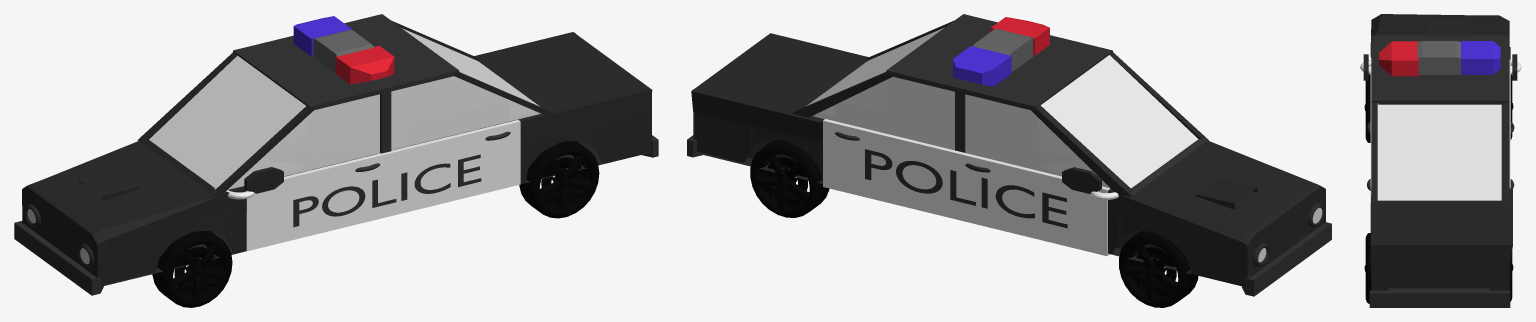
File: Police car.fbx
3 renders of one model, left to right at view 1: azimuth 30°, elevation 25°; view 2: azimuth 150°, elevation 25°; view 3: azimuth 270°, elevation 25°, orthographic. The views are drawn at different scales.
Visible parts, largest first — view 1: Cube, Cube.027, Cube.019, Cube.021, Cube.006, FR, FR.001, Cube.038, Cube.041, Cube.007, Cube.010, Text (+11 smaller); view 2: Cube, Cube.028, Cube.019, Cube.021, Cube.014, FR.002, FR.003, Cube.031, Cube.017, Cube.015, Cube.029, Text.001 (+11 smaller); view 3: Cube, Cube.052, Cube.021, Cube.013, Cube.043, Cube.048, Cube.047, Cube.030, FR.001, FR, Cube.027, Cube.028 (+4 smaller).
Boxes of the visible parts, bbox=[...] form: Cube: bbox=[22, 20, 652, 286]; Cube.027: bbox=[246, 120, 520, 251]; Cube.019: bbox=[149, 55, 305, 189]; Cube.021: bbox=[233, 14, 459, 110]; Cube.006: bbox=[306, 76, 456, 169]; FR: bbox=[152, 231, 232, 307]; FR.001: bbox=[519, 141, 599, 218]; Cube.038: bbox=[97, 209, 246, 285]; Cube.041: bbox=[520, 109, 651, 183]; Cube.007: bbox=[263, 117, 402, 170]; Cube.010: bbox=[415, 77, 509, 144]; Text: bbox=[293, 154, 481, 227]; Cube: bbox=[691, 20, 1325, 286]; Cube.028: bbox=[823, 119, 1109, 256]; Cube.019: bbox=[1040, 55, 1198, 188]; Cube.021: bbox=[886, 14, 1112, 111]; Cube.014: bbox=[888, 76, 1039, 170]; FR.002: bbox=[750, 139, 829, 217]; FR.003: bbox=[1119, 231, 1198, 307]; Cube.031: bbox=[695, 112, 822, 182]; Cube.017: bbox=[835, 79, 930, 143]; Cube.015: bbox=[942, 119, 1080, 170]; Cube.029: bbox=[1108, 212, 1247, 286]; Text.001: bbox=[865, 149, 1067, 228]; Cube: bbox=[1370, 14, 1512, 290]; Cube.052: bbox=[1377, 104, 1501, 200]; Cube.021: bbox=[1371, 35, 1509, 104]; Cube.013: bbox=[1369, 288, 1510, 307]; Cube.043: bbox=[1417, 41, 1460, 74]; Cube.048: bbox=[1461, 41, 1500, 74]; Cube.047: bbox=[1379, 41, 1418, 76]; Cube.030: bbox=[1429, 20, 1469, 35]; FR.001: bbox=[1364, 233, 1371, 303]; FR: bbox=[1364, 74, 1370, 142]; Cube.027: bbox=[1370, 67, 1371, 201]; Cube.028: bbox=[1509, 62, 1510, 188].
Bounding box in the file's own units: 1889 × 610 × 519.
